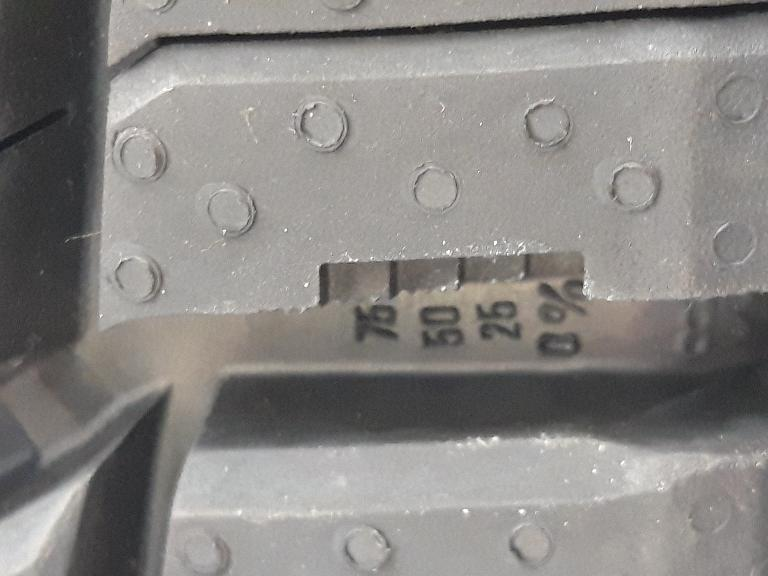temoin:100: (264, 248, 592, 320)
